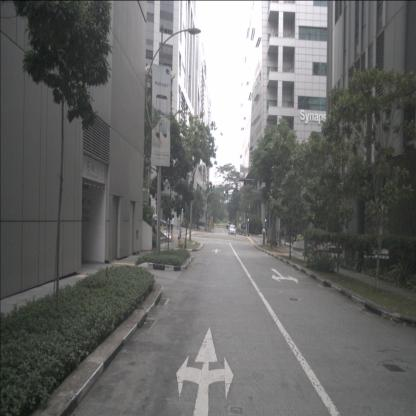human-pedestrian-adult: (170, 216, 174, 234), (167, 216, 170, 233), (263, 226, 266, 242), (266, 226, 269, 241)
vehicle-bicycle: (177, 230, 185, 251)
vehicle-car: (149, 214, 167, 226), (229, 224, 236, 236), (226, 222, 232, 229)
